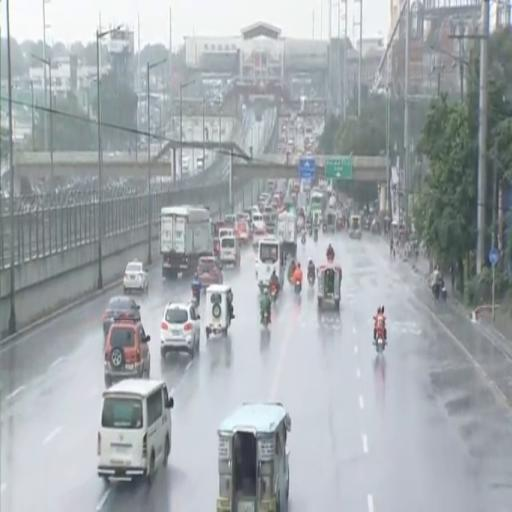car: (98, 379, 173, 484), (104, 319, 150, 387), (161, 302, 200, 358), (103, 296, 140, 335), (197, 256, 223, 289), (123, 261, 149, 293)
jeepney: (217, 403, 290, 511), (349, 215, 362, 238)
motorcycle: (375, 332, 386, 353), (192, 290, 200, 308), (432, 283, 440, 300), (261, 311, 269, 327), (271, 283, 277, 301), (441, 282, 447, 300), (308, 272, 315, 286), (326, 252, 335, 262), (295, 280, 301, 294), (313, 230, 318, 242), (301, 233, 305, 244), (322, 223, 326, 233)
truck: (160, 205, 212, 279), (276, 212, 297, 258)
